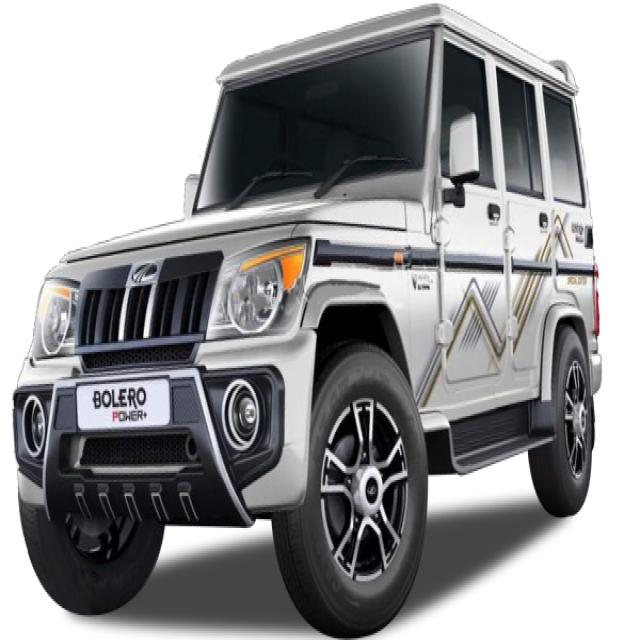light_vehicle: (17, 6, 603, 634)
